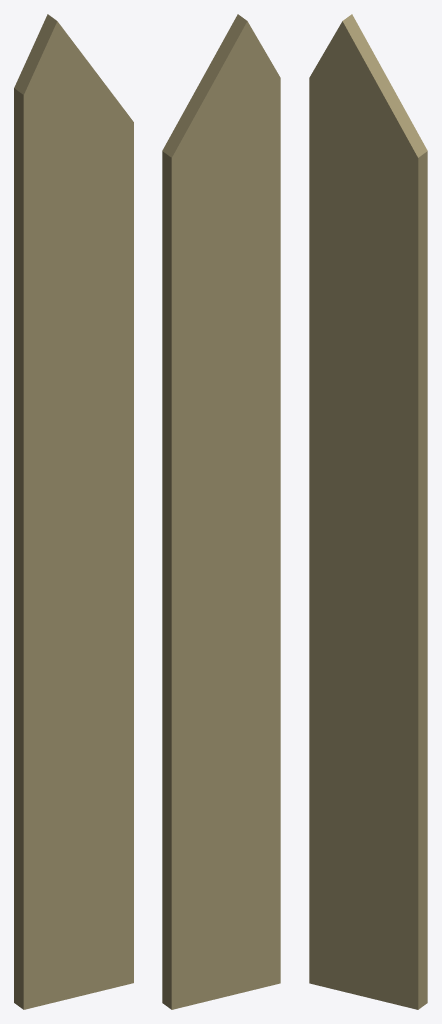
The model's file is Fence(2).fbx.
The picture shows the model from 3 angles, left to right: view 1: azimuth 30°, elevation 25°; view 2: azimuth 210°, elevation 25°; view 3: azimuth 330°, elevation 25°; orthographic projection.
Visible parts, largest first — view 1: Cube.065; view 2: Cube.065; view 3: Cube.065.
Boxes of the visible parts, x1=… form: Cube.065: x1=14, y1=14, x2=133, y2=1009; Cube.065: x1=162, y1=14, x2=280, y2=1009; Cube.065: x1=309, y1=14, x2=427, y2=1009.
Bounding box in the file's own units: 20.2 × 172 × 3.09.
Materials: 1 (1 with a texture image).
